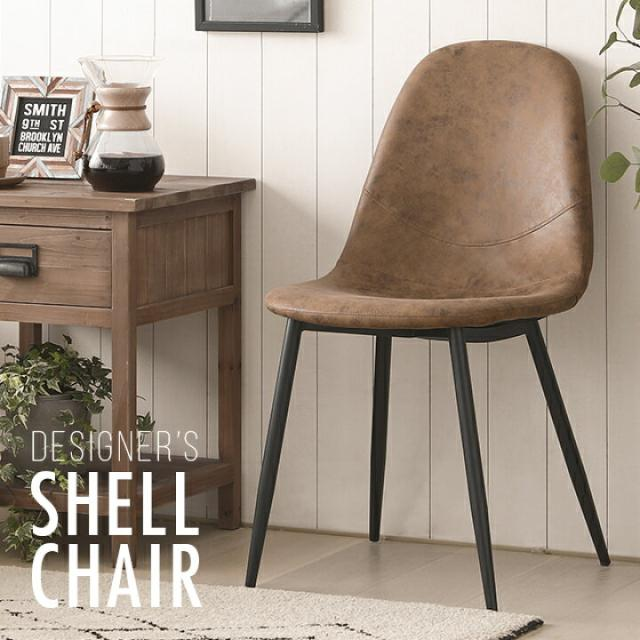chair vintage: (241, 38, 618, 612)
